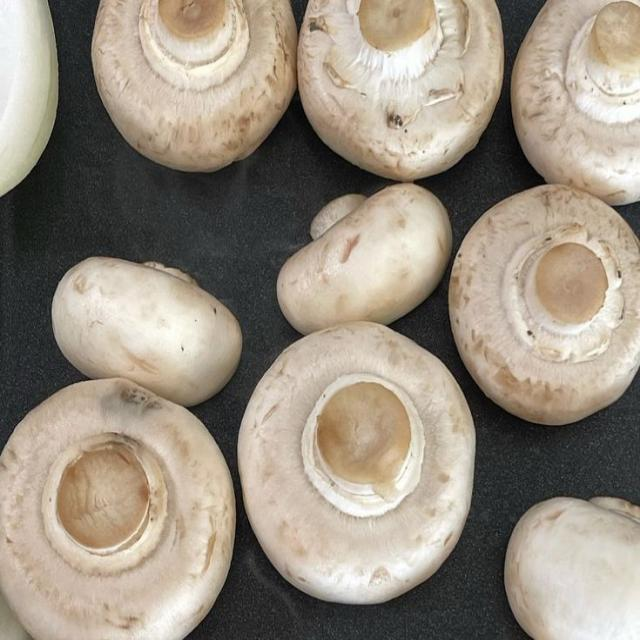champignon mushrooms: (239, 324, 475, 603), (0, 380, 235, 639), (450, 186, 639, 424), (298, 0, 504, 181), (93, 0, 296, 171), (52, 257, 242, 405), (277, 184, 451, 334), (512, 0, 639, 203), (505, 498, 639, 639), (0, 0, 58, 195), (0, 593, 30, 639)
